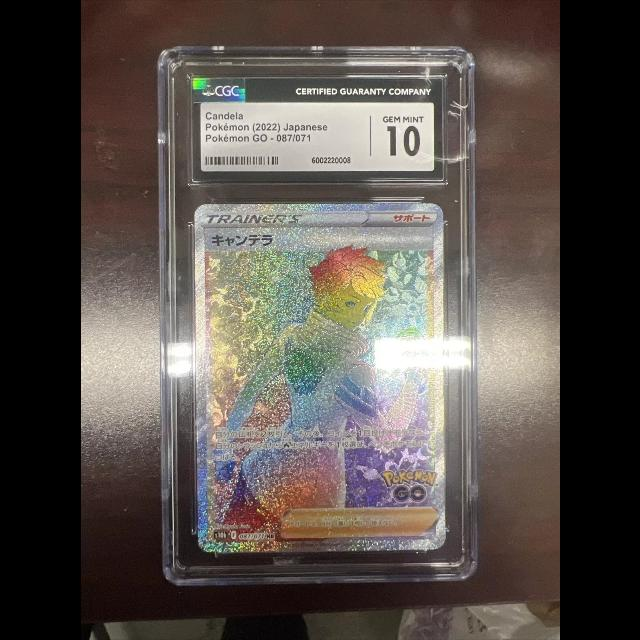card: (193, 203, 446, 552)
cgc_label: (191, 78, 443, 183)
cgc_slab: (155, 45, 478, 586)
